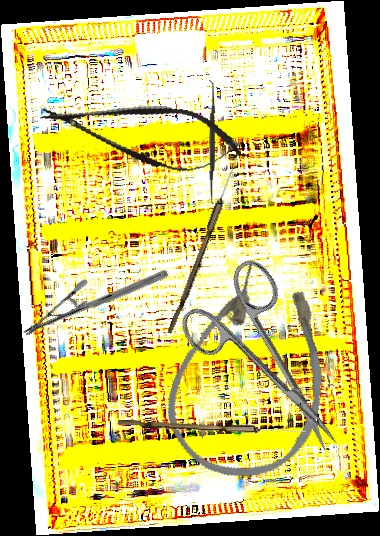Cannula: (151, 249, 355, 496)
Iris Scissors: (169, 254, 372, 479)
Micro Scissor: (34, 83, 248, 183)
Needle Holder: (21, 223, 171, 383)
Spatula Surgical: (203, 79, 221, 205)
Surgical Spoon: (167, 151, 242, 336), (117, 419, 307, 436)
